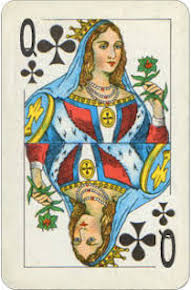QueenOfClubs: (1, 2, 191, 289)
